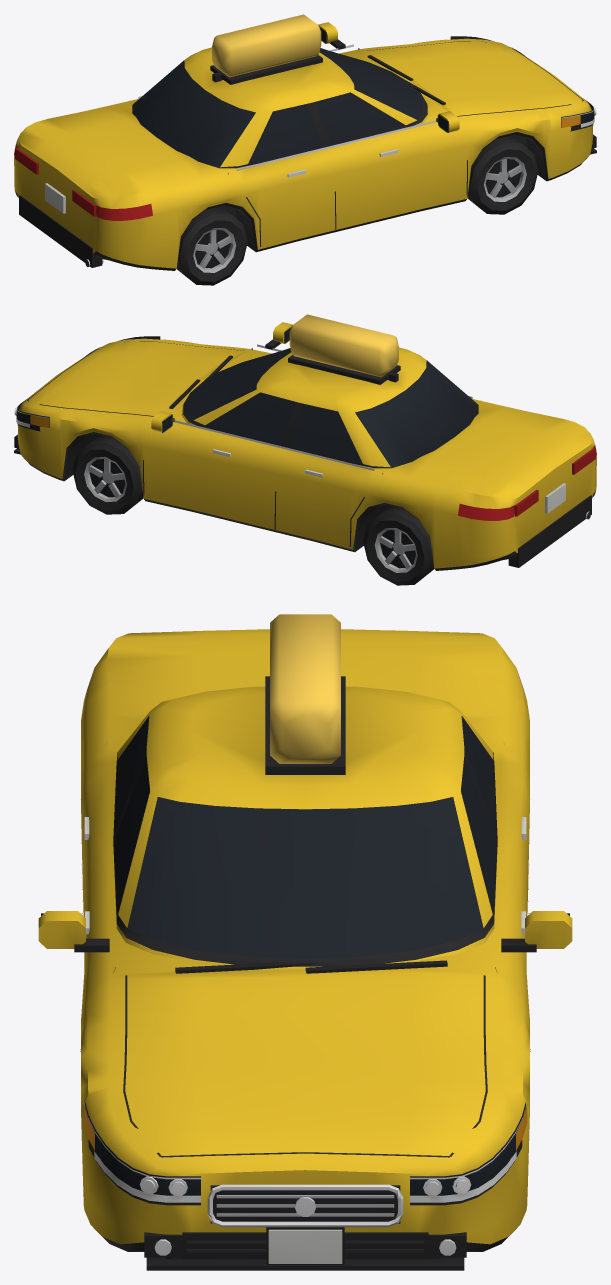
Rendered from taxi.glb.
The picture shows the model from 3 angles, top to bottom: view 1: azimuth 30°, elevation 25°; view 2: azimuth 150°, elevation 25°; view 3: azimuth 270°, elevation 25°; orthographic projection. The views are drawn at different scales.
Parts seen in each view (by area): view 1: lod0; view 2: lod0; view 3: lod0.
Boxes of the visible parts, x1,y1,x2,y2 form: lod0: [14, 14, 596, 285]; lod0: [14, 314, 596, 585]; lod0: [38, 614, 572, 1270].
Size of what is drawn, in the model's own units: 4.92 by 1.79 by 2.25.
